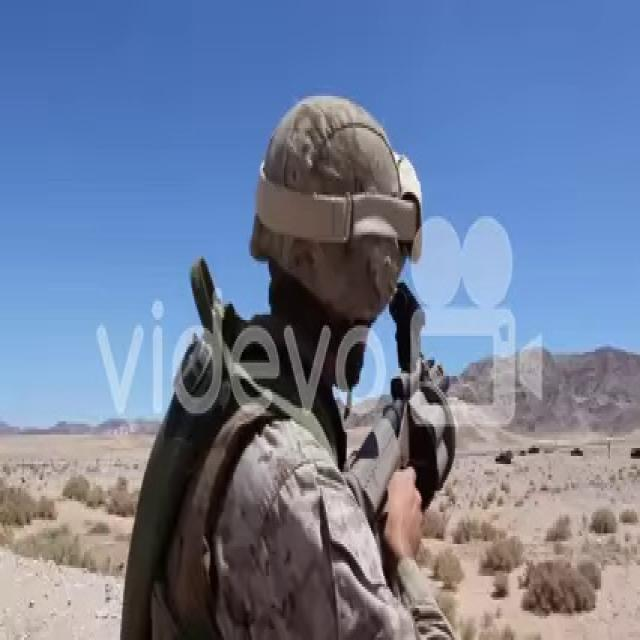bazooka: (346, 275, 459, 529)
